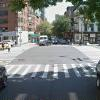Car: (34, 29, 59, 47)
